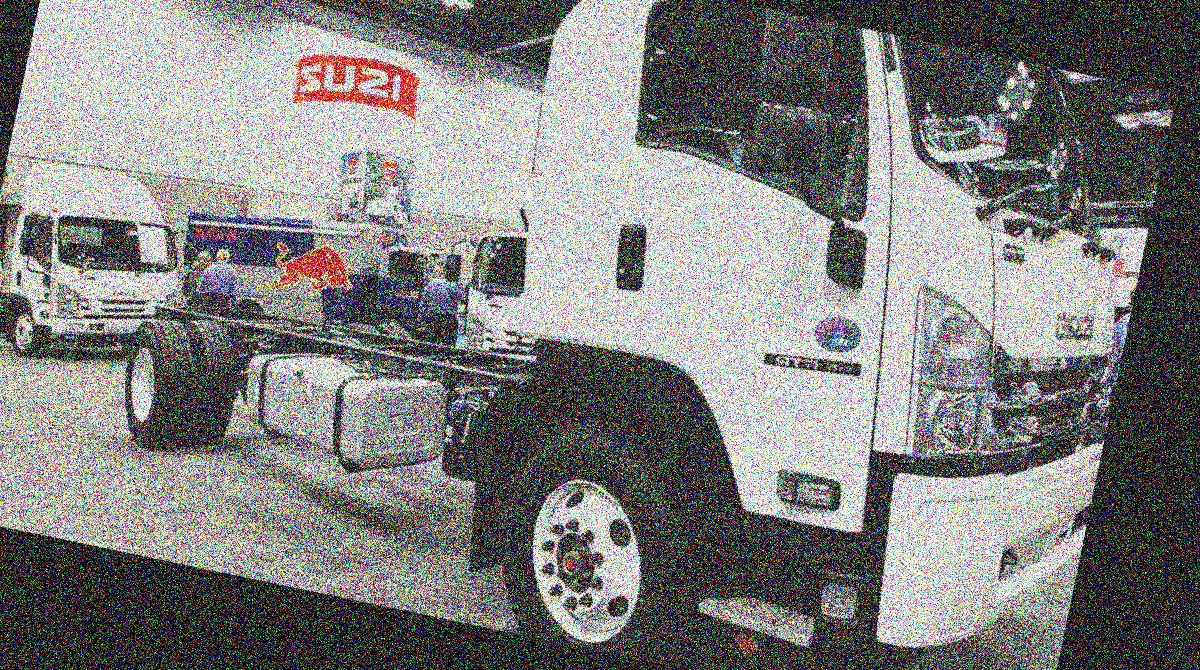truck: (29, 0, 1177, 670)
